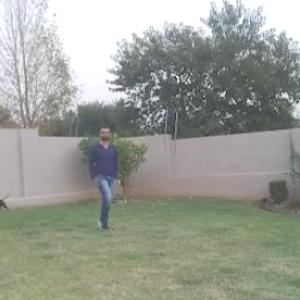follow: (88, 122, 120, 228)
